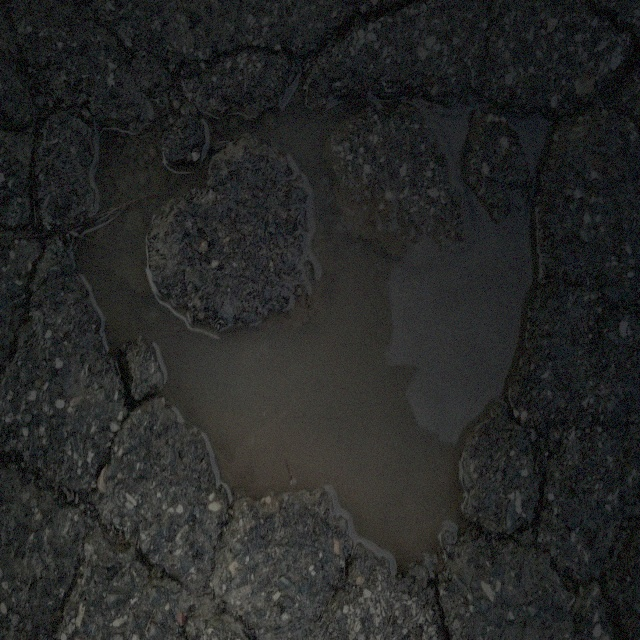pothole: (64, 63, 561, 586)
